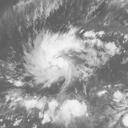cyclone: (31, 31, 88, 81)
